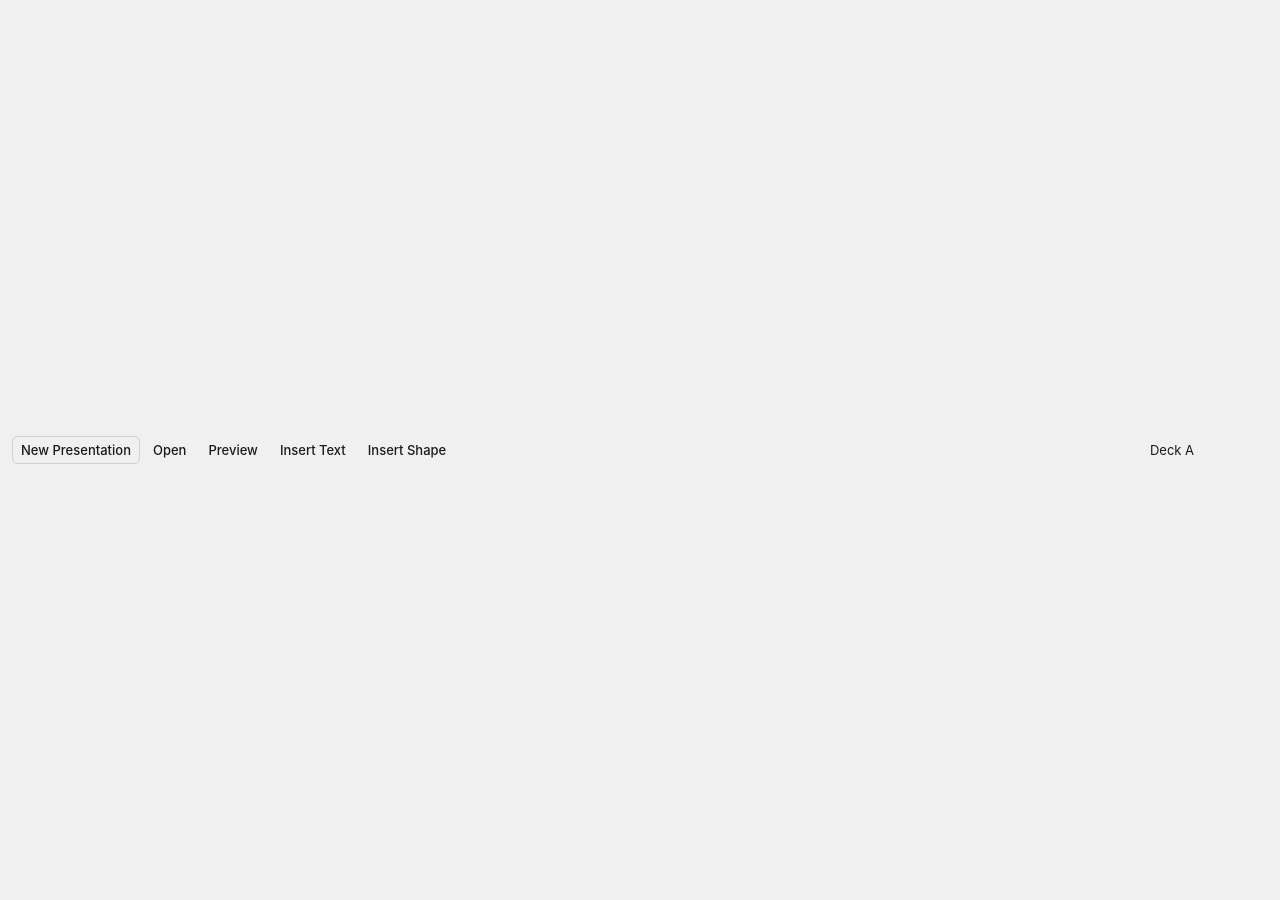
Scenario: Toolbar › opens presentation picker popup when Open is clicked
Click the button "Open".
click(170, 450)  # box x1=144 y1=436 x2=196 y2=464
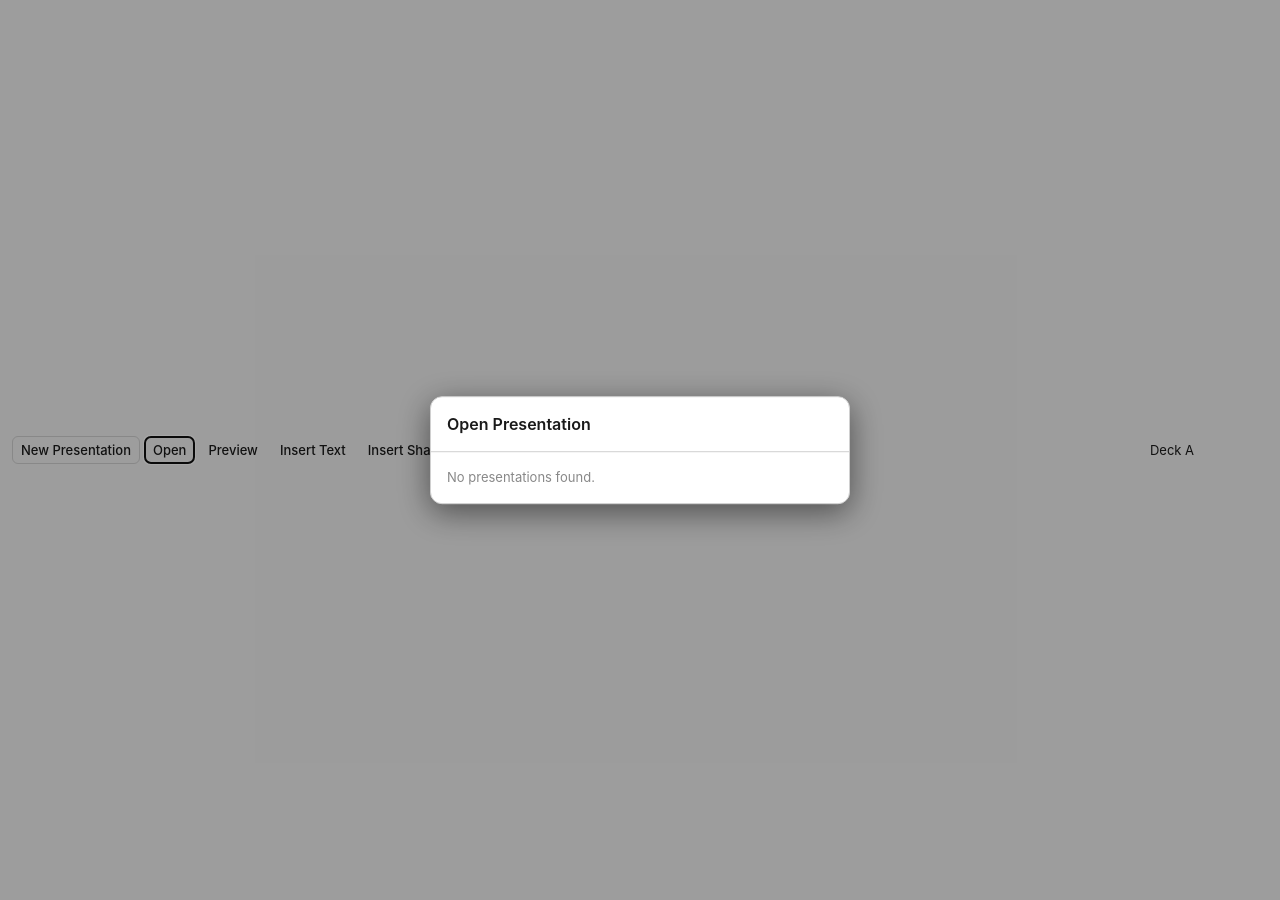
Now the dialog "Open Presentation" is shown, box x1=430 y1=396 x2=850 y2=504
